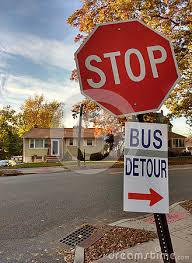Stop: (79, 19, 192, 118)
